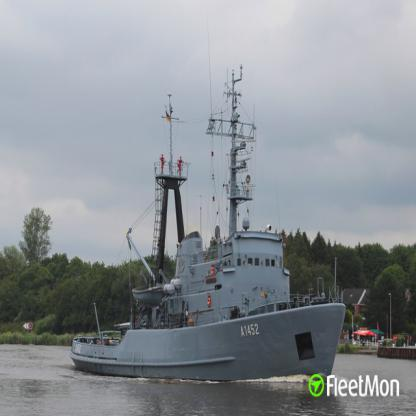Military Ship: (69, 64, 346, 382)
